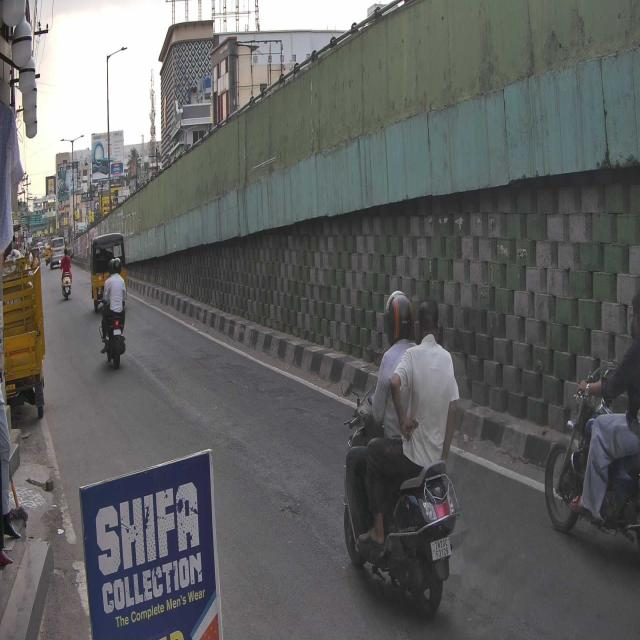double_rider: (338, 294, 462, 617)
